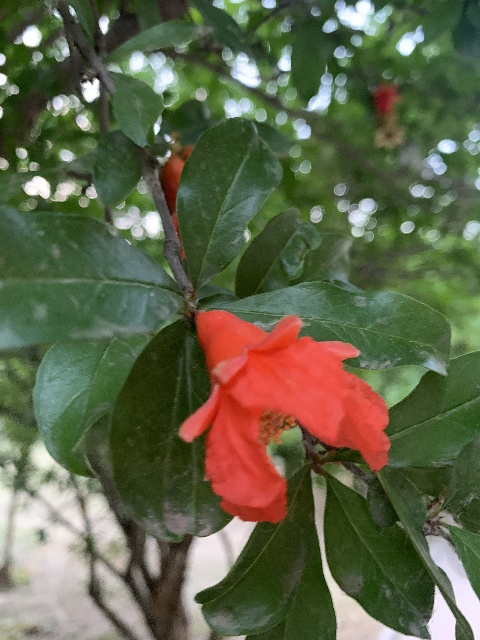flower: (177, 309, 390, 523)
